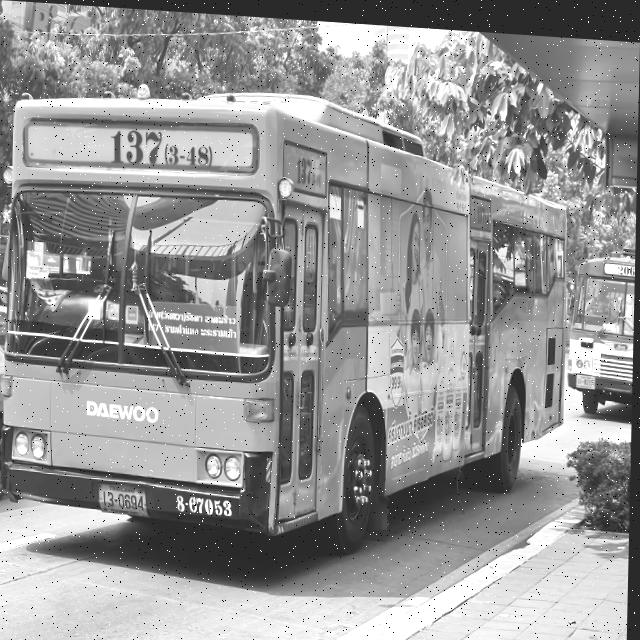BMTA-bus: (0, 50, 575, 579), (569, 223, 637, 420)
Bus-Line-Number: (103, 125, 218, 169), (614, 255, 636, 268)
Destination-Sign-Normal: (145, 295, 241, 351)
